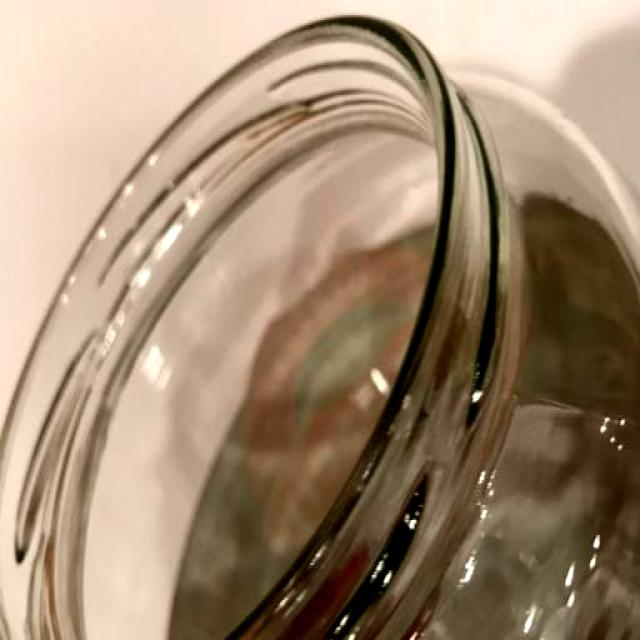Glass: (0, 5, 640, 640)
